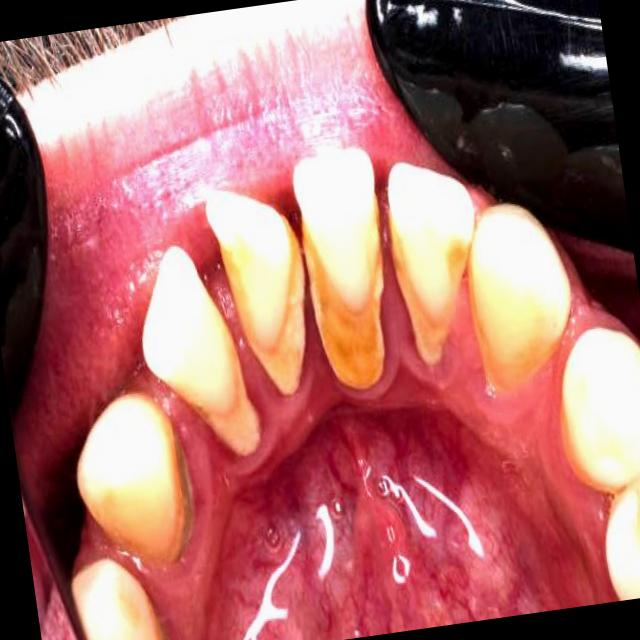calculus: (304, 208, 409, 408), (470, 291, 560, 440), (387, 220, 473, 370), (250, 225, 322, 404), (198, 315, 266, 485), (148, 418, 217, 574)
